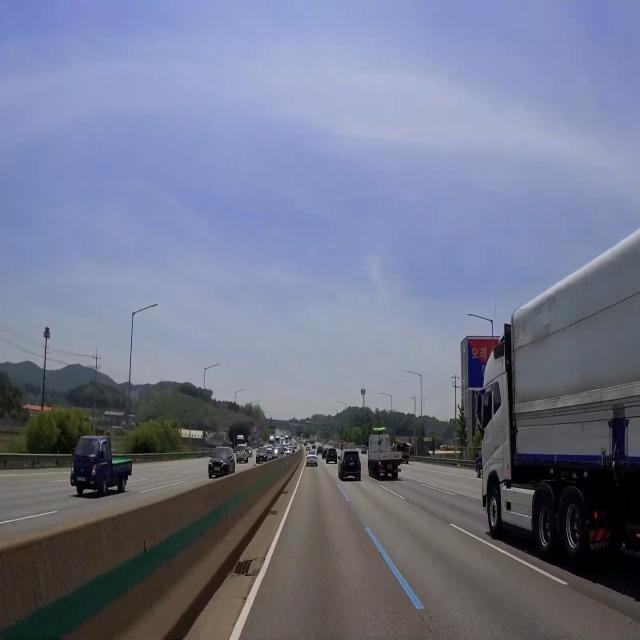car: (385, 461, 394, 472), (347, 461, 356, 467), (213, 466, 221, 472), (309, 460, 314, 463), (330, 454, 334, 456)
